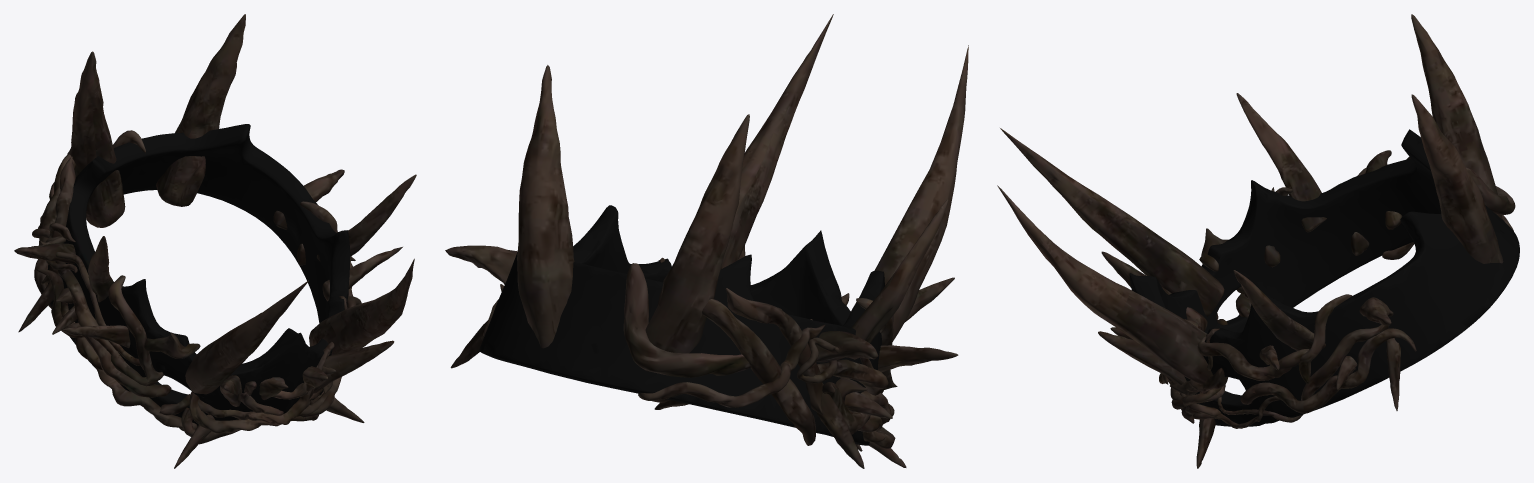
The model's file is couronne.glb.
3 views of the same model, side by side, from view 1: azimuth 30°, elevation 25°; view 2: azimuth 150°, elevation 25°; view 3: azimuth 270°, elevation 25° (orthographic). The views are drawn at different scales.
Visible parts, largest first — view 1: KnightHiPoly_002; view 2: KnightHiPoly_002; view 3: KnightHiPoly_002.
Part boxes in pixels (left/top/right/bottom): KnightHiPoly_002: left=14, top=14, right=416, bottom=468; KnightHiPoly_002: left=445, top=14, right=968, bottom=468; KnightHiPoly_002: left=997, top=14, right=1519, bottom=468.
Bounding box in the file's own units: 0.4276 × 0.4043 × 0.5248.
Materials: 1 (1 with a texture image).
